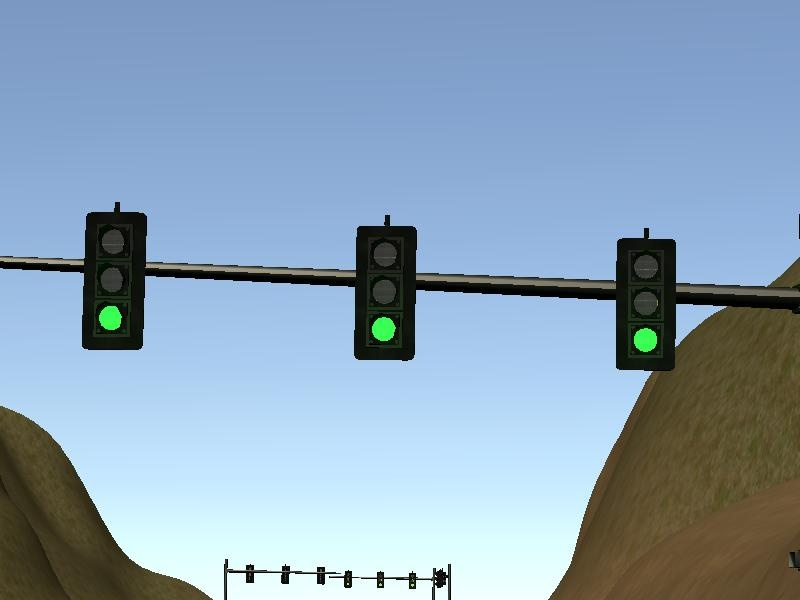GREEN: (79, 210, 146, 349), (350, 223, 417, 362), (613, 238, 675, 370)
